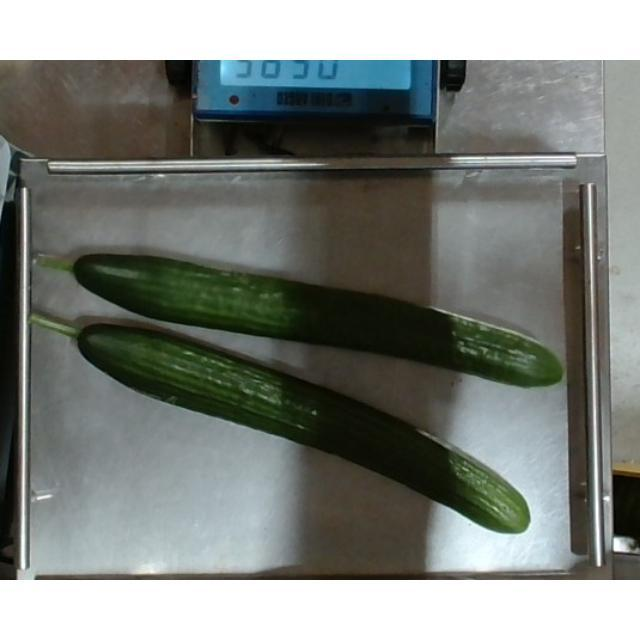cucumber: (33, 308, 533, 542), (29, 246, 565, 390)
